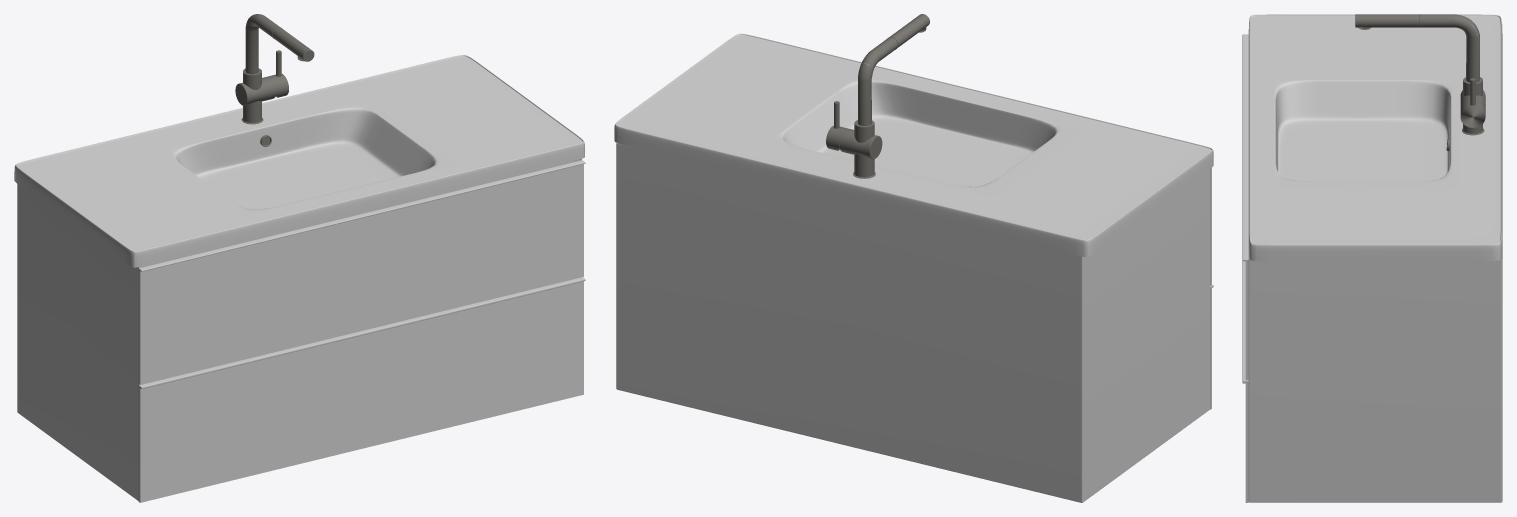
The model's file is Sinkwithtaps_001.gltf.
3 renders of one model, left to right at view 1: azimuth 30°, elevation 25°; view 2: azimuth 150°, elevation 25°; view 3: azimuth 270°, elevation 25°, orthographic. The views are drawn at different scales.
Parts seen in each view (by area): view 1: Sinkwithtaps_001; view 2: Sinkwithtaps_001; view 3: Sinkwithtaps_001.
Boxes of the visible parts, x1,y1,x2,y2 form: Sinkwithtaps_001: (14,14,585,502); Sinkwithtaps_001: (614,14,1213,502); Sinkwithtaps_001: (1242,14,1502,502).
Size of the model in its own units: 0.9798 by 0.7421 by 0.4661.
1 material, 1 textured.
